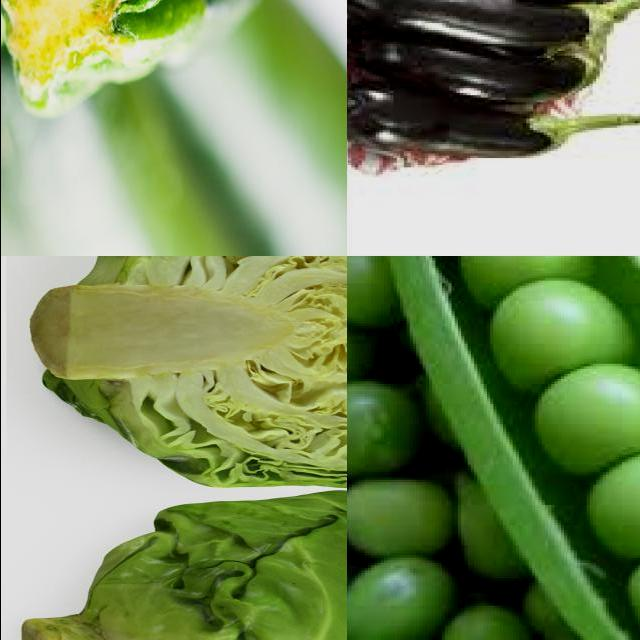cabbage: (23, 257, 347, 492), (7, 488, 347, 640)
eggplant: (351, 33, 621, 101), (347, 82, 576, 159), (347, 1, 614, 40)
zucchini: (2, 1, 347, 123)
